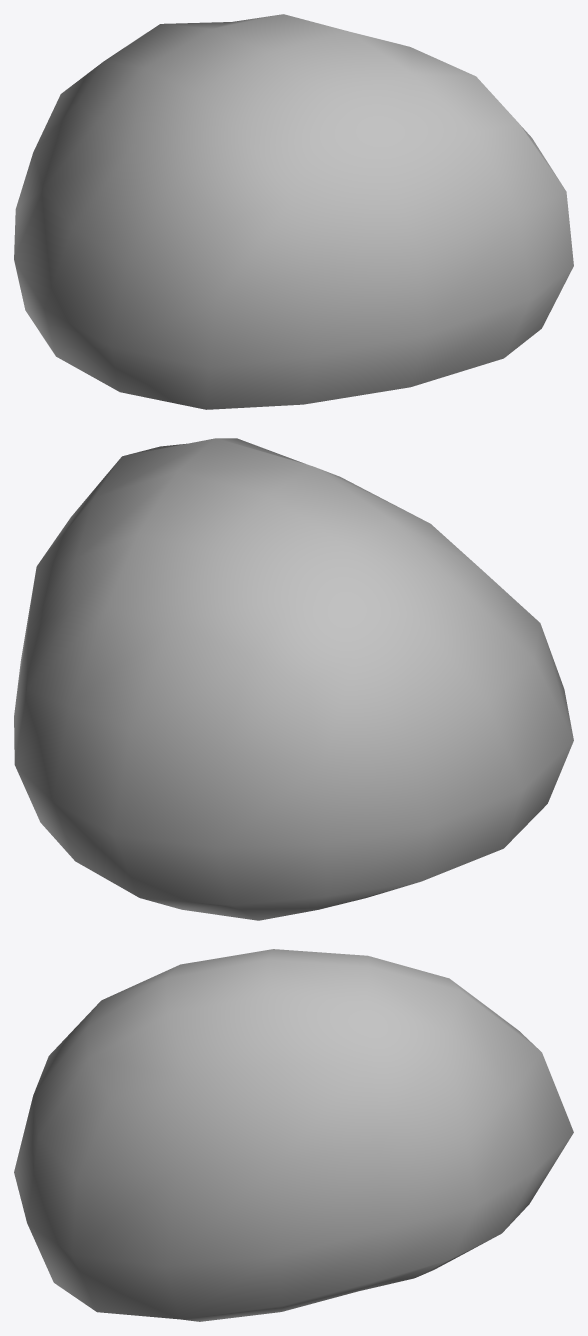
Rendered from Pebble_3b.gltf.
3 views of the same model, one above another, from view 1: azimuth 30°, elevation 25°; view 2: azimuth 150°, elevation 25°; view 3: azimuth 270°, elevation 25° (orthographic). The views are drawn at different scales.
Parts seen in each view (by area): view 1: Pebble_3b; view 2: Pebble_3b; view 3: Pebble_3b.
Part boxes in pixels (<box>): Pebble_3b: <box>14,14,573,409</box>; Pebble_3b: <box>14,438,573,920</box>; Pebble_3b: <box>14,949,573,1321</box>.
Bounding box in the file's own units: 31.55 × 20.3 × 33.35.
Materials: 1 (1 with a texture image).
